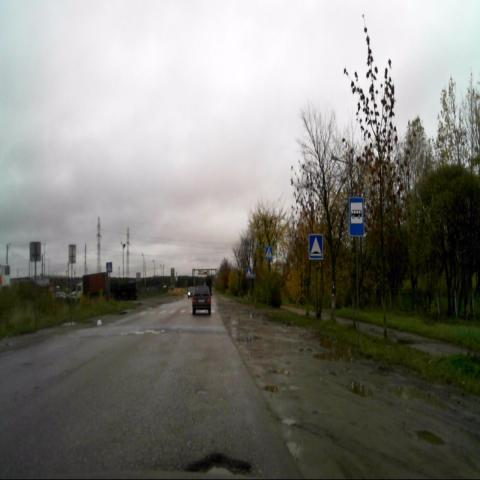5_20: (309, 234, 323, 260)
